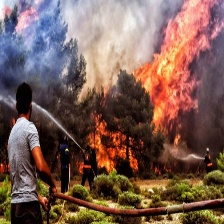fire: (135, 1, 221, 117), (81, 109, 137, 177), (3, 4, 43, 34)
smoke: (52, 2, 146, 92)
